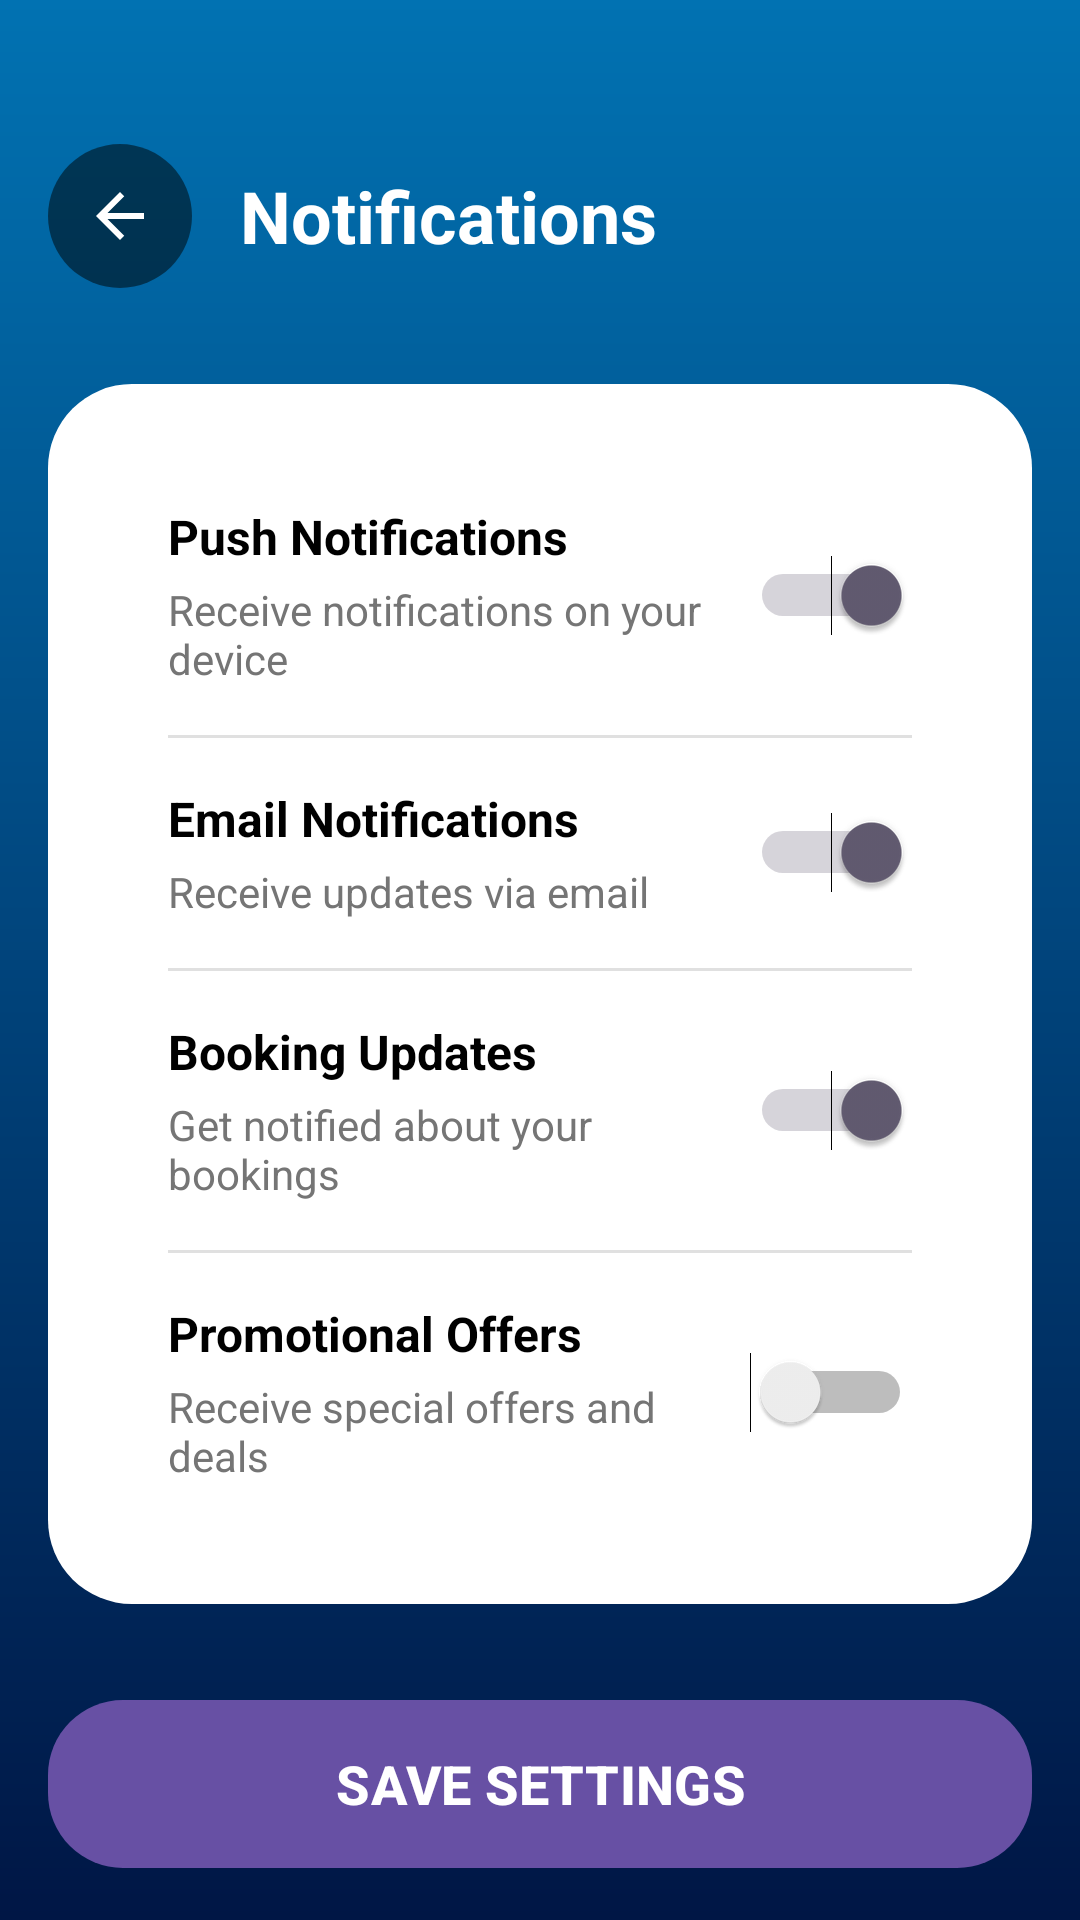

Named icons in this screenshot (1080x1920) and their centers, [x,y]:
back: [120,216]
